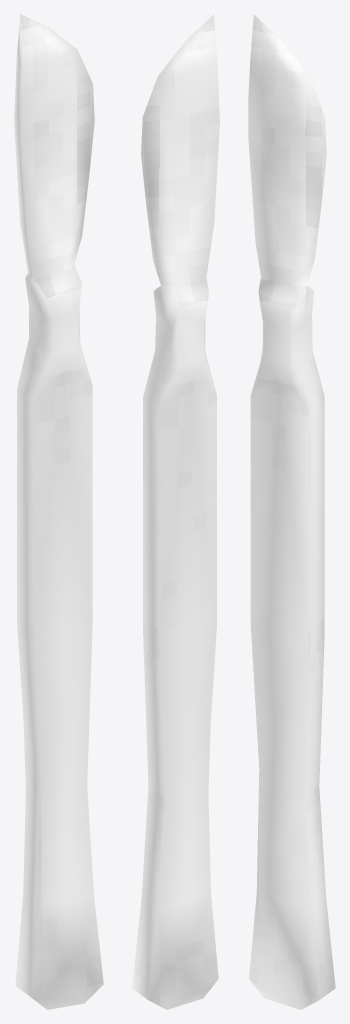
The model's file is Scalpel.glb.
3 renders of one model, left to right at view 1: azimuth 30°, elevation 25°; view 2: azimuth 210°, elevation 25°; view 3: azimuth 330°, elevation 25°, orthographic. The views are drawn at different scales.
Visible parts, largest first — view 1: Scalpel; view 2: Scalpel; view 3: Scalpel.
Part boxes in pixels (left/top/right/bottom): Scalpel: left=14, top=14, right=103, bottom=1009; Scalpel: left=132, top=14, right=219, bottom=1009; Scalpel: left=248, top=14, right=335, bottom=1009.
Bounding box in the file's own units: 0.0142 × 0.1742 × 0.00734.
1 material, 1 textured.
